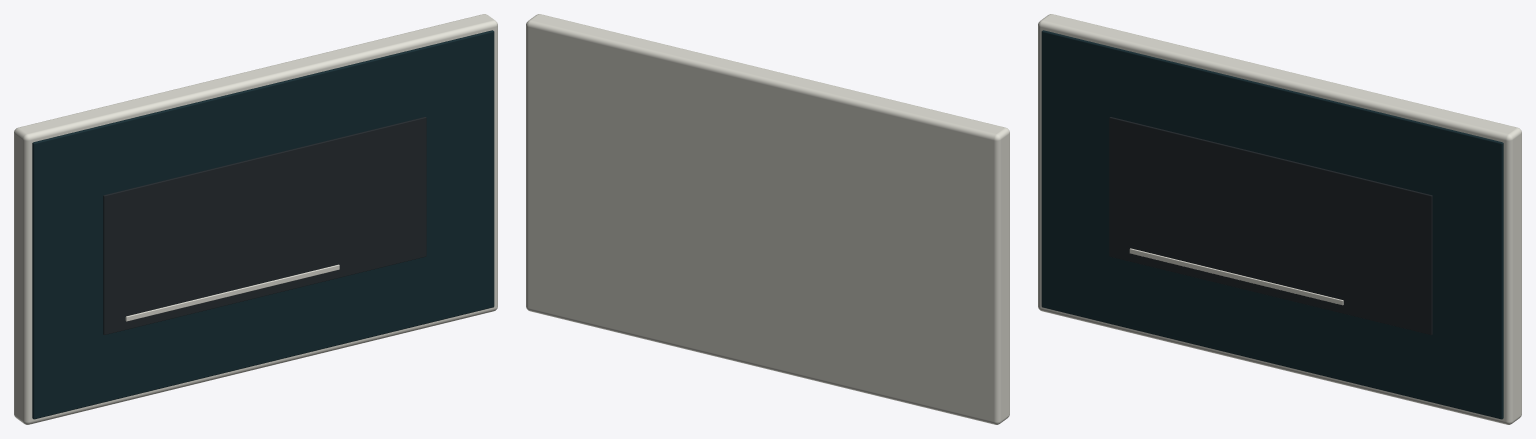
File: board-2.glb
3 renders of one model, left to right at view 1: azimuth 30°, elevation 25°; view 2: azimuth 150°, elevation 25°; view 3: azimuth 330°, elevation 25°, orthographic.
Visible parts, largest first — view 1: board:2:archviz; view 2: board:2:archviz; view 3: board:2:archviz.
Part boxes in pixels (x1,y1,x2,y2): board:2:archviz: (14, 14, 497, 424); board:2:archviz: (526, 14, 1009, 424); board:2:archviz: (1038, 14, 1521, 424).
Size of the model in its own units: 1.23 by 0.72 by 0.077.
